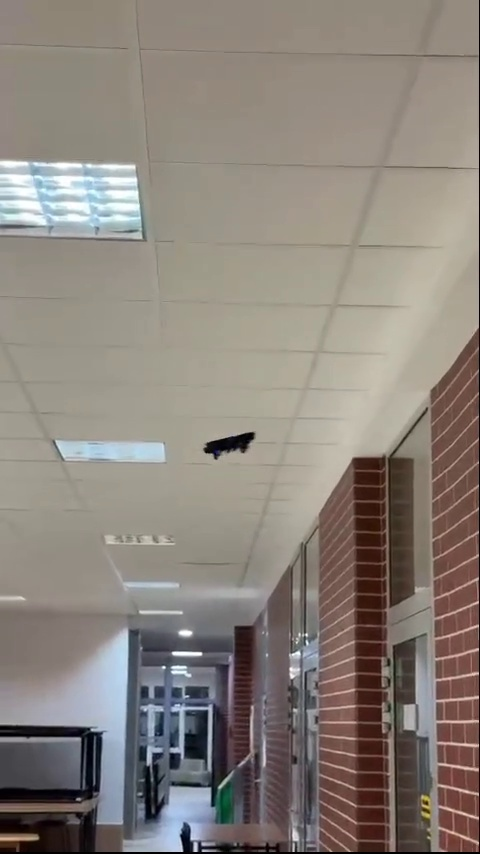drone: (206, 431, 255, 462)
